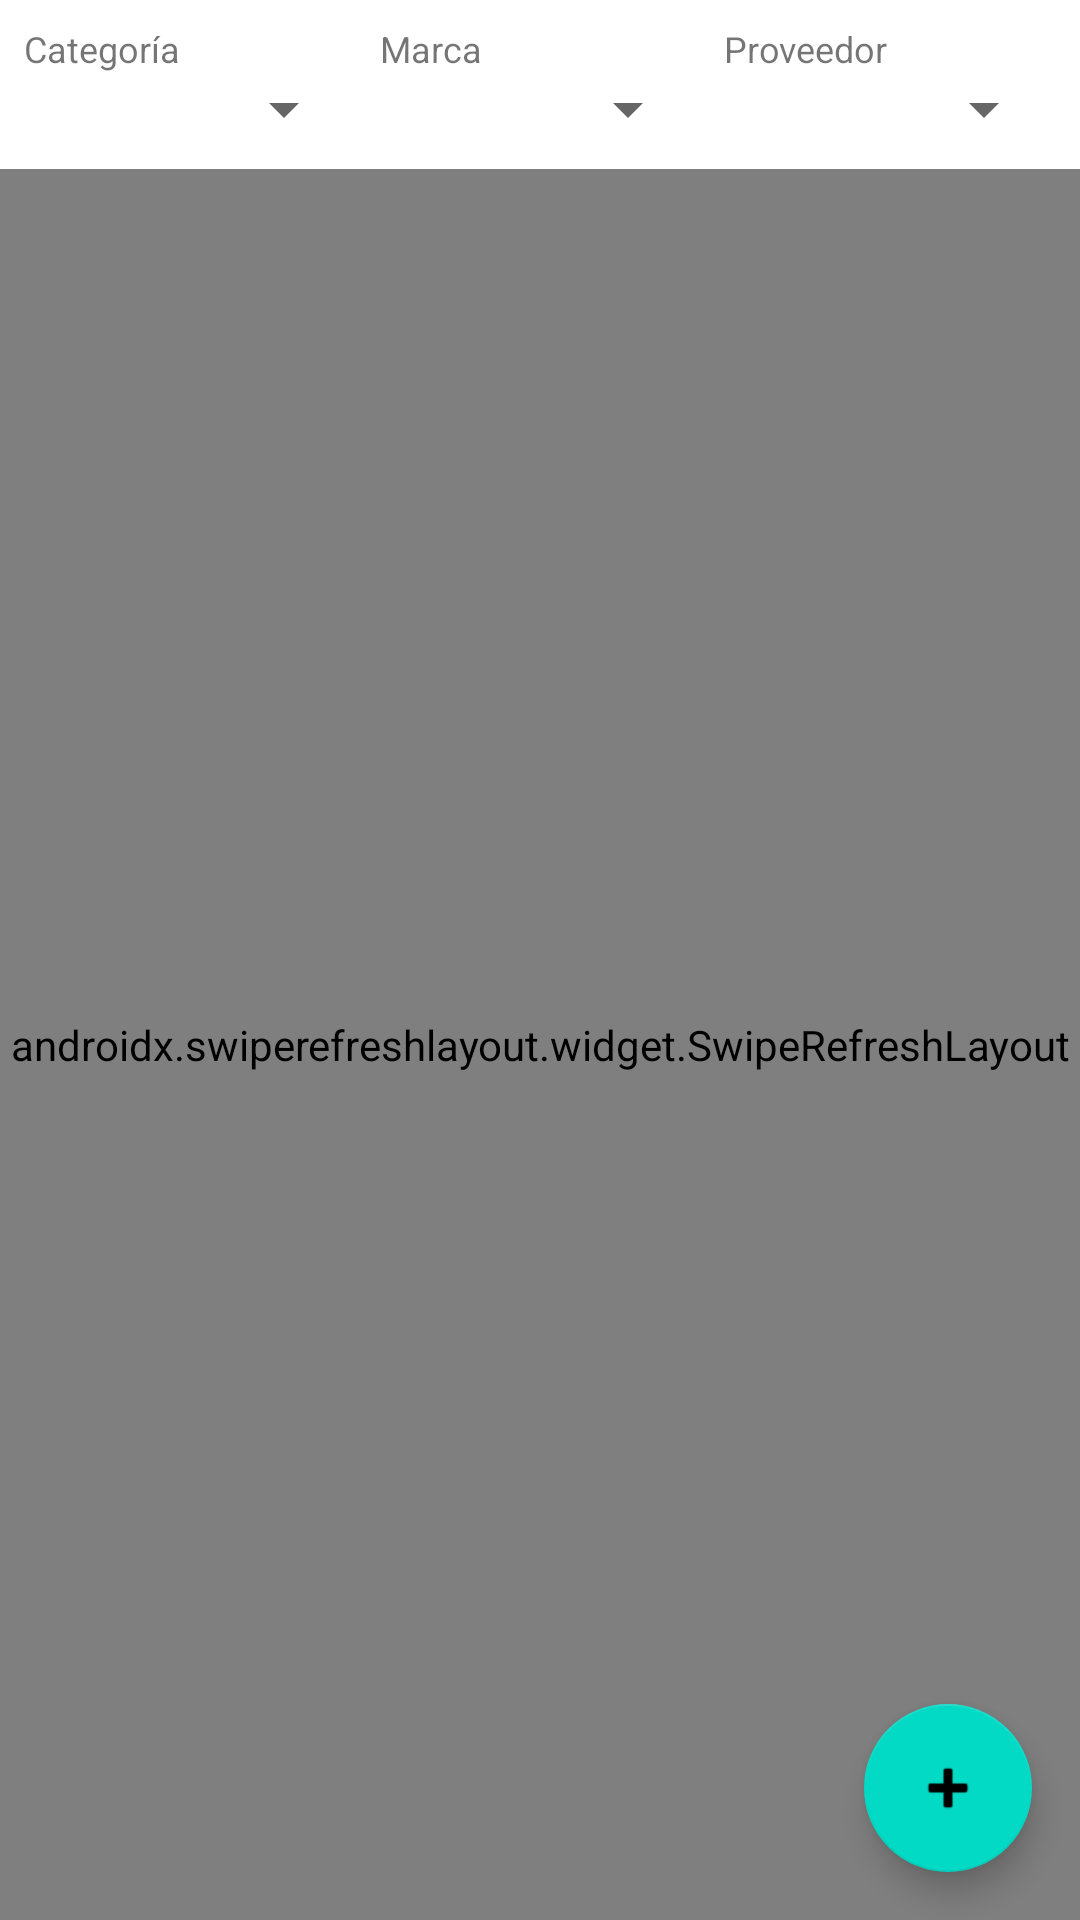

Screen size 1080*1920. Icon name, then its box in pixels as (left=x1, top=y1, right=x2, bottom=y2):
Nuevo producto: (left=864, top=1704, right=1032, bottom=1872)
